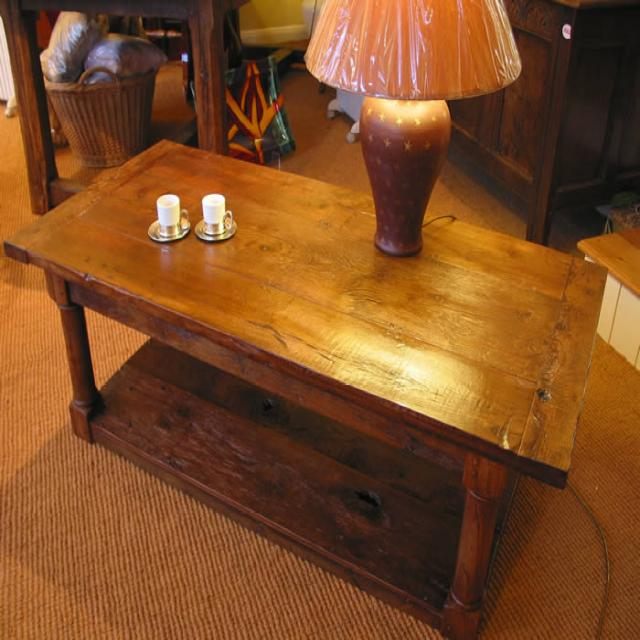table: (3, 135, 608, 638)
